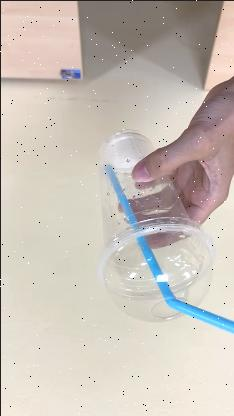Others: (92, 127, 216, 327)
